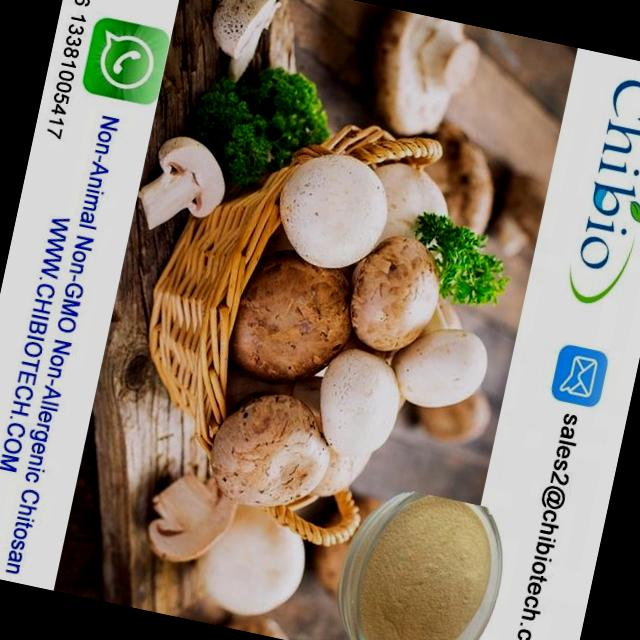Agaricus bisporus: (248, 133, 401, 281), (197, 378, 333, 527), (340, 224, 450, 363), (240, 248, 351, 384), (396, 294, 501, 424), (316, 341, 418, 462), (128, 131, 231, 246)
